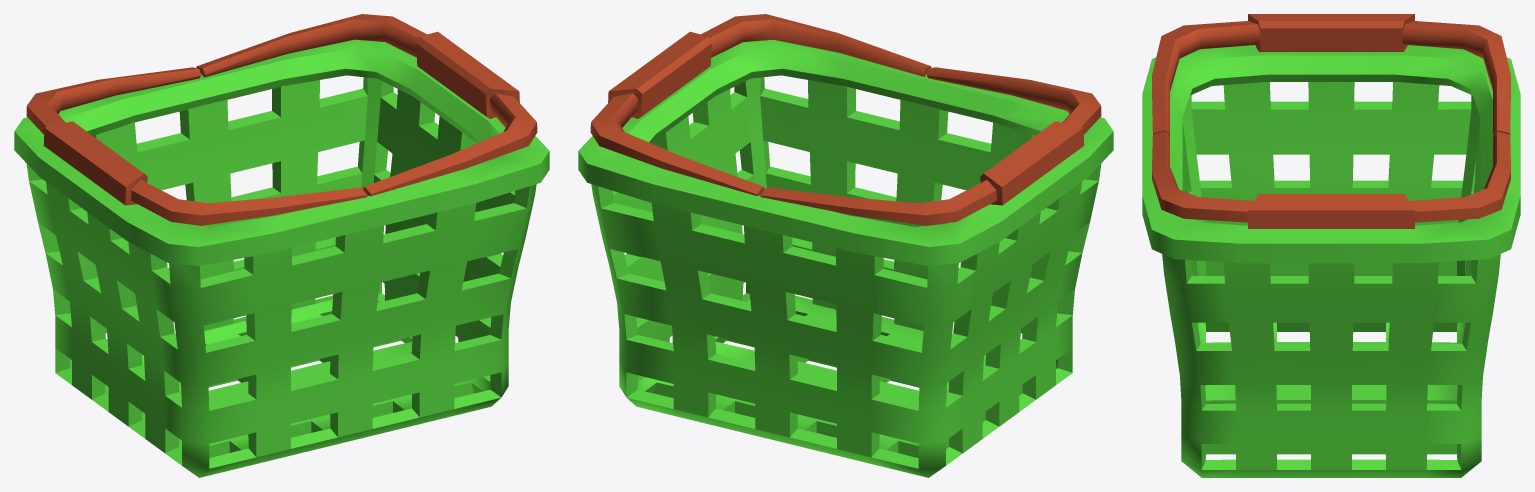
Rendered from basket.fbx.
3 views of the same model, side by side, from view 1: azimuth 30°, elevation 25°; view 2: azimuth 150°, elevation 25°; view 3: azimuth 270°, elevation 25° (orthographic). The views are drawn at different scales.
Parts seen in each view (by area): view 1: basket; view 2: basket; view 3: basket.
Boxes of the visible parts, box(x1,y1,x2,y2) form: basket: box(14, 14, 549, 477); basket: box(578, 14, 1113, 477); basket: box(1142, 14, 1520, 477).
Bounding box in the file's own units: 66.6 × 46.5 × 53.62.
Materials: 1 (1 with a texture image).
